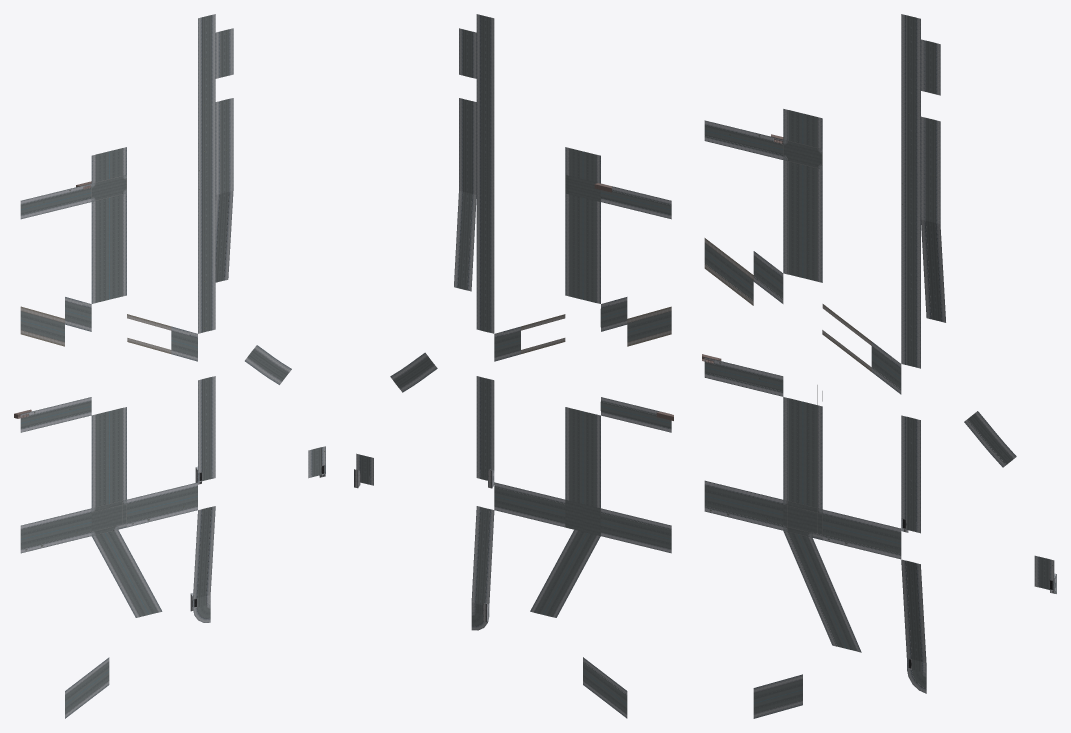
The model's file is comse_comse__part_02.obj.
3 views of the same model, side by side, from view 1: azimuth 30°, elevation 25°; view 2: azimuth 150°, elevation 25°; view 3: azimuth 330°, elevation 25° (orthographic). The views are drawn at different scales.
Parts seen in each view (by area): view 1: comse_comse__part_02; view 2: comse_comse__part_02; view 3: comse_comse__part_02.
Boxes of the visible parts, bbox=[...] form: comse_comse__part_02: bbox=[14, 14, 325, 718]; comse_comse__part_02: bbox=[354, 14, 673, 718]; comse_comse__part_02: bbox=[702, 14, 1056, 718].
Size of the model in its own units: 355 by 720 by 14.55.
96 materials, 96 textured.
